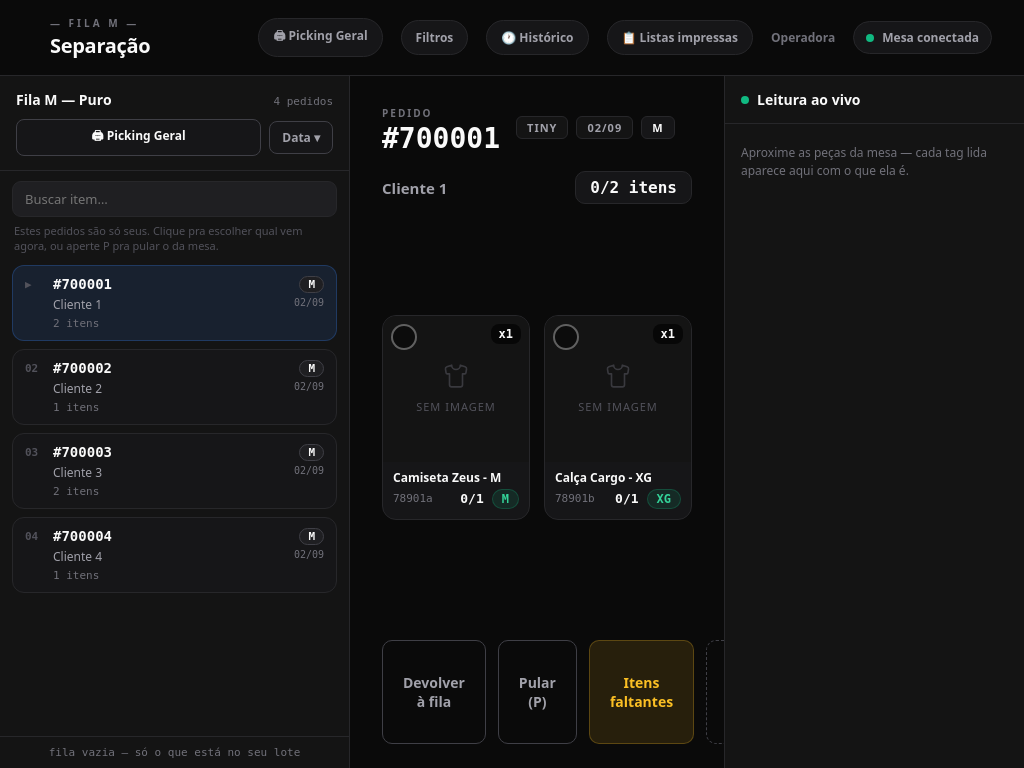
Test: filtro de exclusão ao vivo › marcar Calça Cargo e aplicar some com os pedidos 1 e 3
Expected: the text "#700001" below "Puro" is shown, [53, 276, 112, 292]
Click the button "Filtros".
click(434, 38)  # box [401, 20, 468, 55]
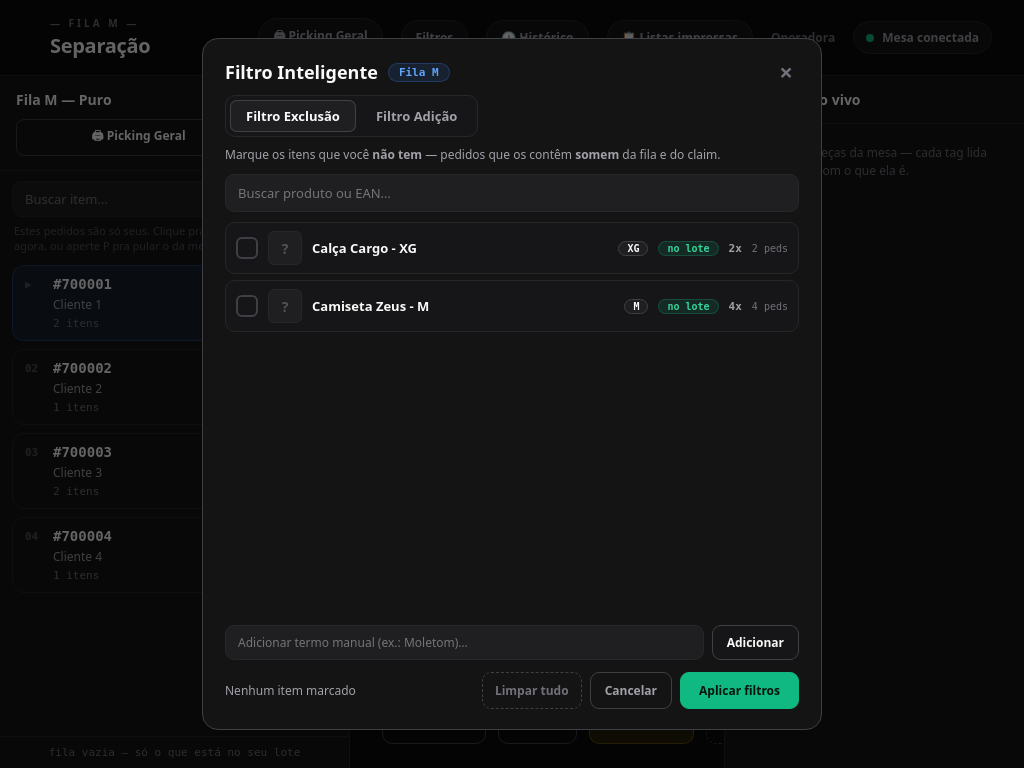
Click the text "Calça Cargo - XG".
click(364, 248)  # box [312, 239, 417, 257]
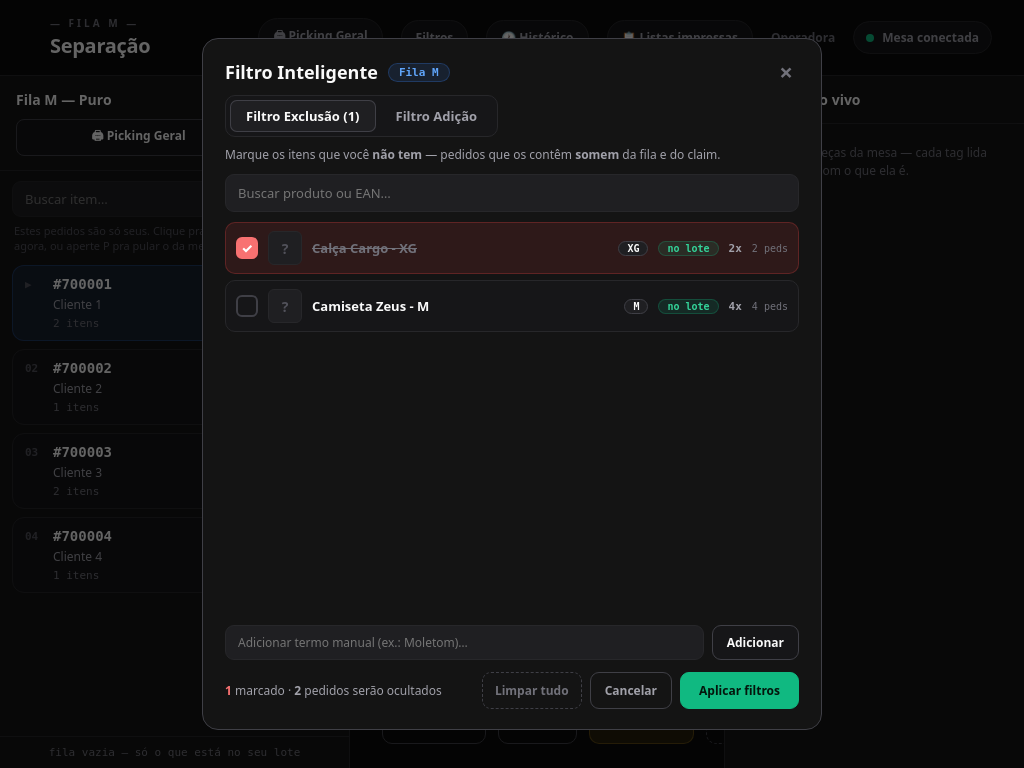
Click the button "Aplicar filtros".
click(740, 690)  # box [680, 672, 799, 709]
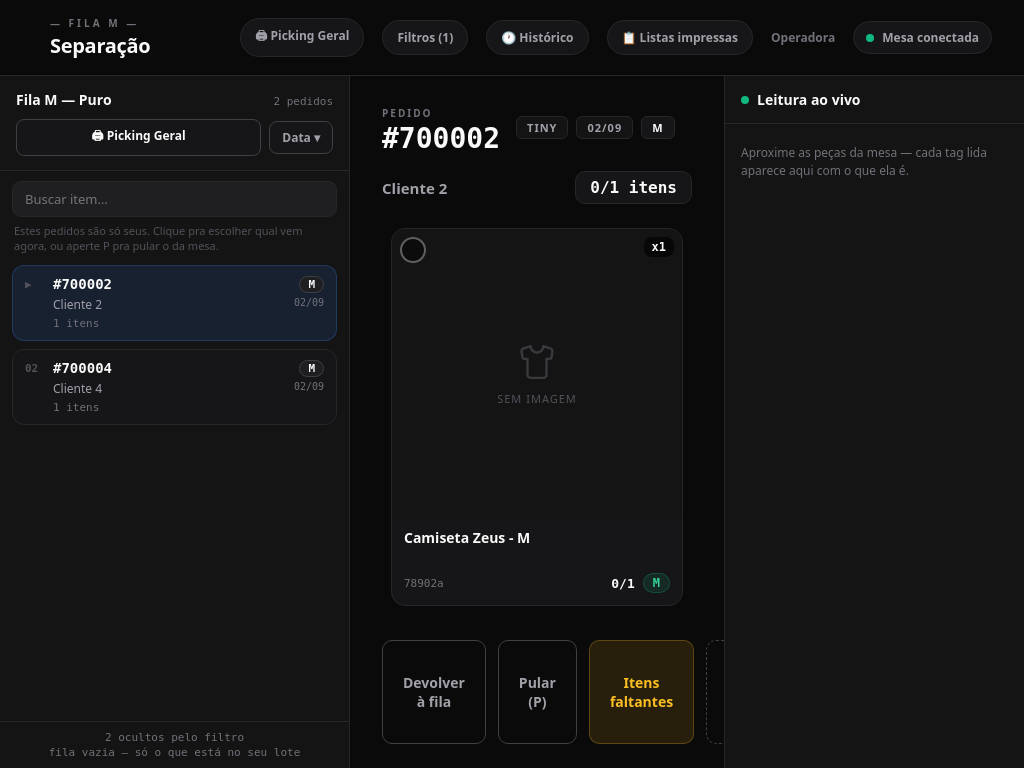
Expected: the text "#700002" below "Puro" is shown, [53, 276, 112, 292]
Now the text "#700001" is not shown
Now the text "#700003" is not shown
